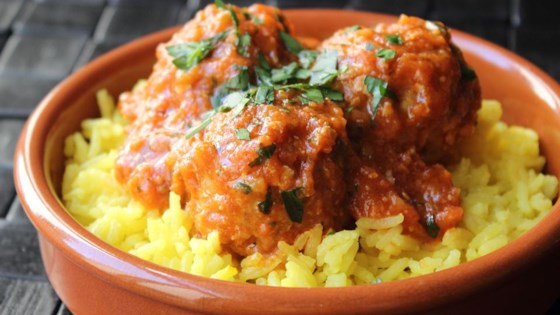meatballs: (176, 83, 341, 241), (334, 26, 465, 137), (168, 9, 282, 86)
plain rice: (465, 162, 514, 234)
